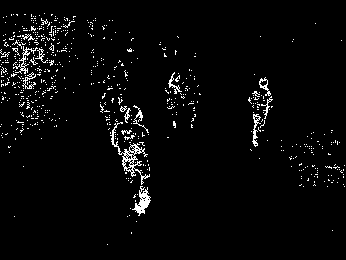person: (112, 103, 152, 216), (245, 71, 274, 149), (163, 69, 185, 128)
